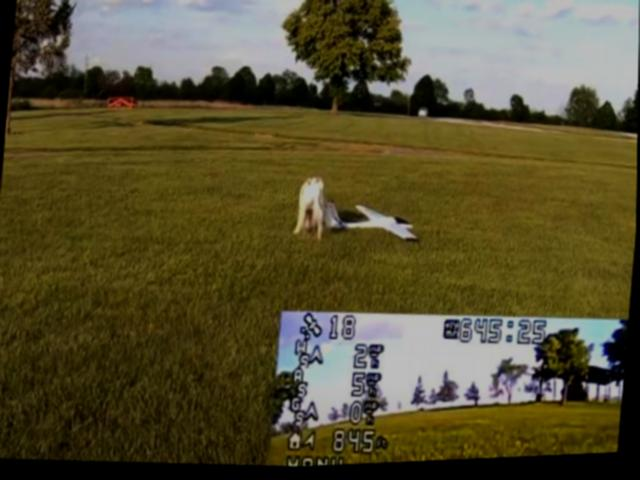iha: (320, 196, 426, 250)
